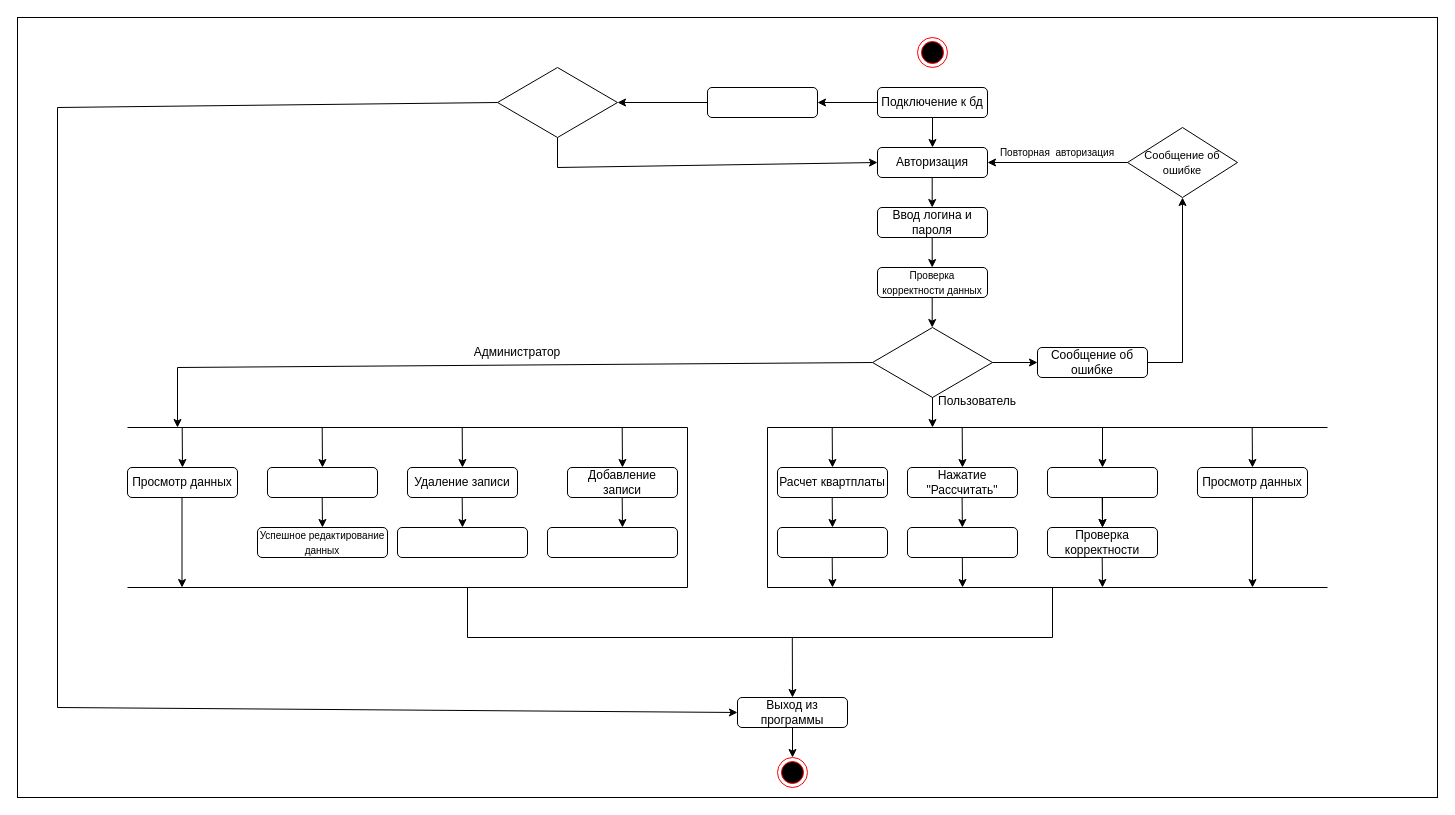
The diagram is 1455 pixels wide and 815 high, and some of its shapes have lost their labels. Here are the shapes that lost their labels. From the top down, the centre of each, then its label:
the point at 762,102: Регистрация
the point at 322,482: Редактирование данных
the point at 1102,482: Ввод данных счетчиков
the point at 462,542: Успешное удаление записи
the point at 612,542: Успешное добавление записи
the point at 832,542: Запись данных в БД
the point at 962,542: Вывод данных
